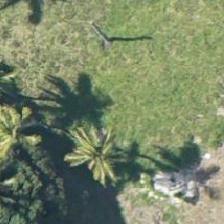coconut_tree: (41, 102, 131, 192), (0, 87, 63, 177)
